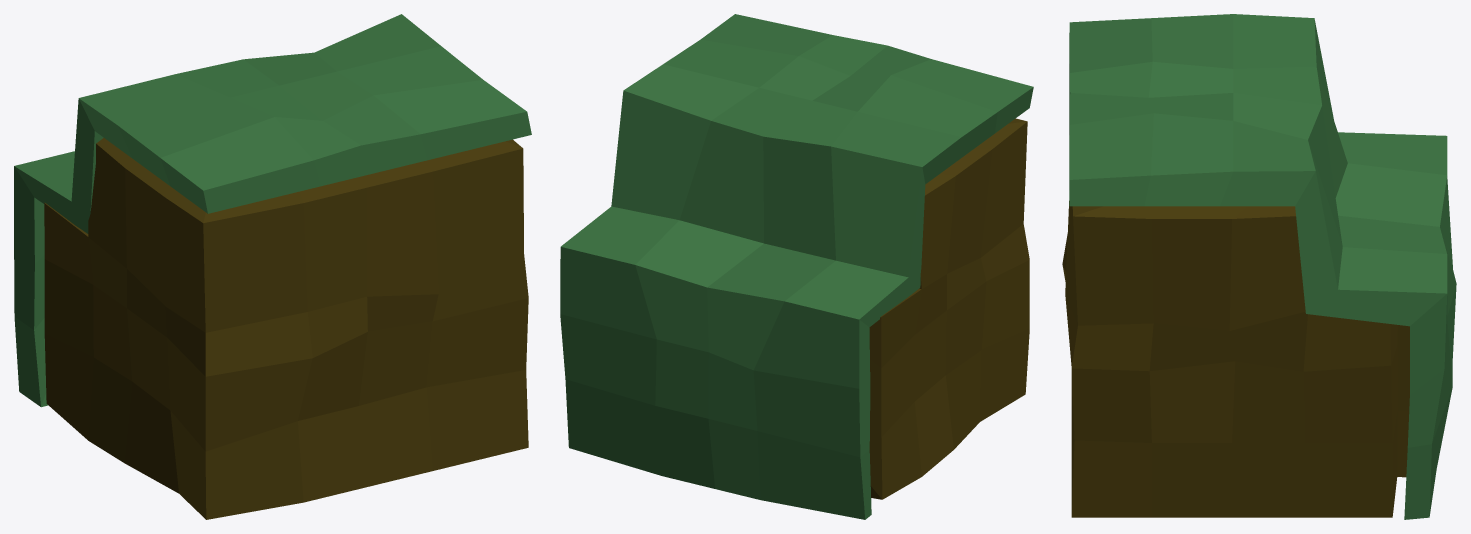
The model's file is Grass_Stairs_002.fbx.
3 views of the same model, side by side, from view 1: azimuth 30°, elevation 25°; view 2: azimuth 150°, elevation 25°; view 3: azimuth 270°, elevation 25° (orthographic). The views are drawn at different scales.
Parts seen in each view (by area): view 1: Grass_Stairs_002; view 2: Grass_Stairs_002; view 3: Grass_Stairs_002.
Boxes of the visible parts, x1=… form: Grass_Stairs_002: x1=14, y1=14, x2=531, y2=519; Grass_Stairs_002: x1=560, y1=14, x2=1033, y2=519; Grass_Stairs_002: x1=1062, y1=14, x2=1456, y2=519.
Size of the model in its own units: 207 by 211 by 212.
Materials: 1 (1 with a texture image).
